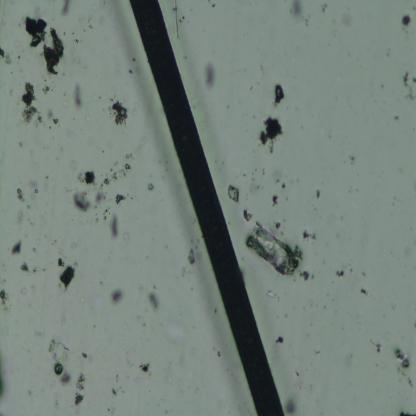Background material: (73, 162, 132, 214), (248, 222, 302, 278), (23, 14, 66, 74), (48, 335, 72, 385), (19, 78, 43, 127), (54, 257, 78, 294), (260, 118, 286, 144), (240, 170, 265, 196), (143, 282, 162, 314), (390, 346, 412, 371), (337, 7, 361, 29), (289, 1, 308, 28), (401, 72, 416, 106), (111, 99, 129, 126), (171, 2, 186, 34), (73, 372, 86, 406), (352, 280, 374, 300), (204, 61, 218, 90), (72, 80, 84, 112), (108, 212, 121, 240), (366, 338, 386, 356), (226, 184, 241, 207), (23, 179, 42, 197), (0, 343, 6, 399), (0, 286, 11, 314), (240, 206, 257, 223), (273, 83, 285, 107), (19, 261, 39, 275), (301, 228, 319, 243), (109, 287, 124, 304), (284, 398, 298, 415), (0, 48, 13, 66), (47, 109, 60, 126), (342, 150, 357, 164), (11, 238, 22, 257), (186, 248, 197, 266), (15, 207, 25, 226), (60, 0, 70, 18), (333, 267, 346, 280), (138, 362, 152, 374), (106, 386, 120, 398), (400, 14, 413, 26), (310, 345, 322, 357), (16, 189, 26, 202), (146, 180, 156, 192), (314, 186, 322, 200), (272, 194, 279, 209), (301, 270, 310, 281), (396, 412, 416, 416), (73, 35, 80, 45), (275, 336, 284, 343), (215, 350, 223, 357), (44, 86, 50, 94), (81, 352, 88, 358), (127, 70, 134, 75)
Hair: (128, 0, 284, 416)
